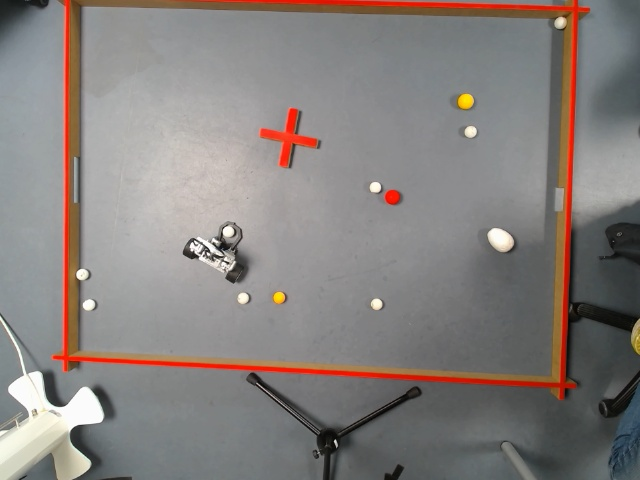big_goal: (60, 158, 80, 201)
cross: (255, 99, 324, 168)
egg: (484, 228, 511, 251)
orange: (272, 291, 284, 303)
robot: (180, 216, 250, 285)
small_goal: (548, 180, 572, 207)
wall: (48, 348, 578, 393), (548, 0, 578, 402), (58, 0, 78, 369), (246, 0, 591, 15)
white: (368, 297, 382, 309), (236, 291, 248, 303), (464, 126, 476, 138), (368, 180, 381, 191), (83, 297, 93, 311), (222, 225, 233, 237), (551, 15, 564, 24), (76, 269, 86, 279)
